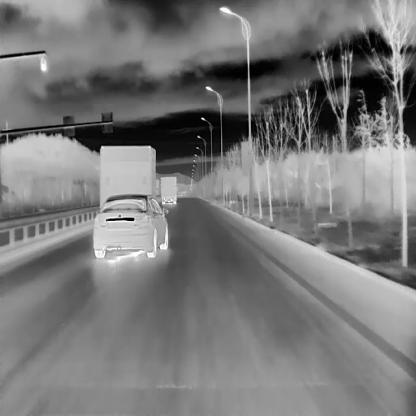car: (93, 192, 168, 258)
truck: (99, 144, 158, 232), (160, 176, 176, 204)
